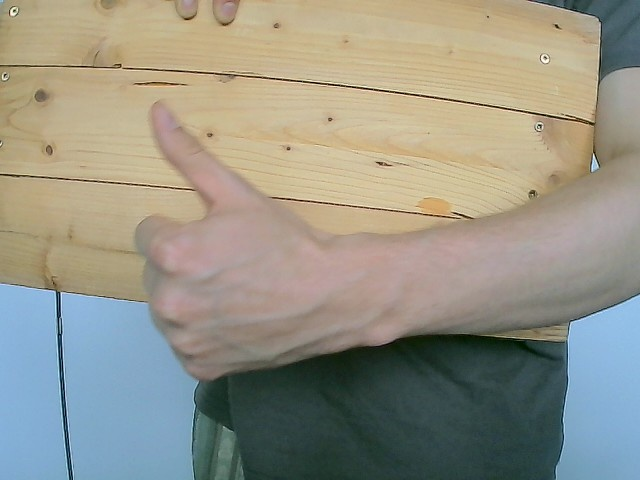up: (132, 82, 333, 382)
